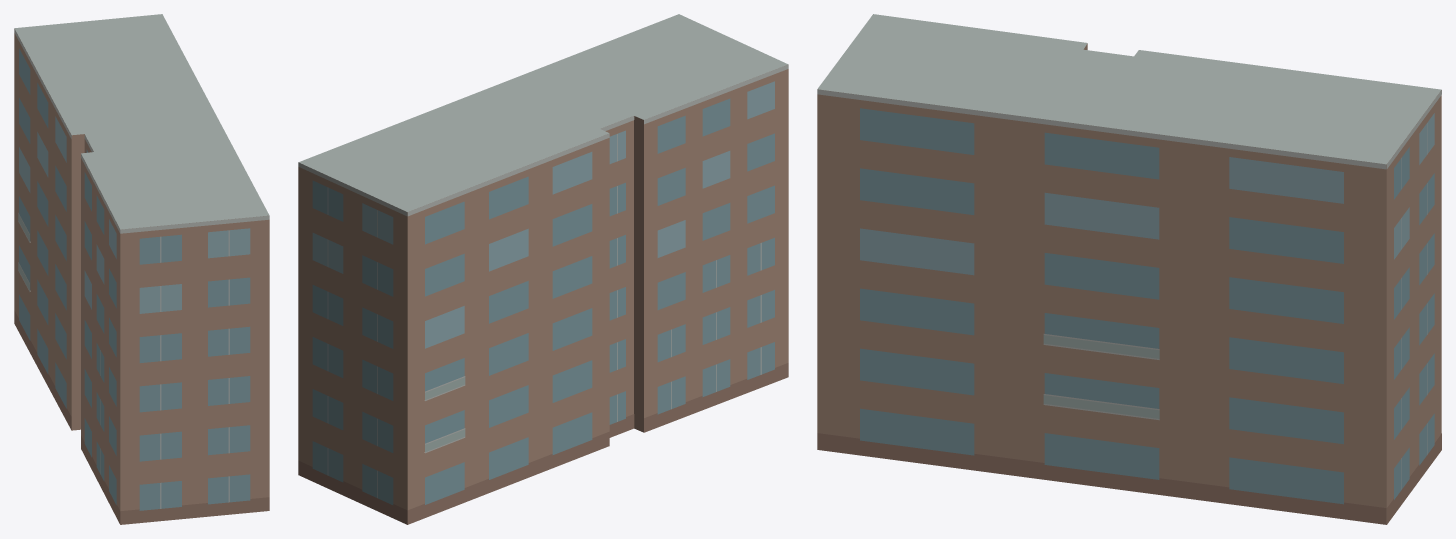
Rendered from survey-upis-32899186.glb.
3 renders of one model, left to right at view 1: azimuth 30°, elevation 25°; view 2: azimuth 150°, elevation 25°; view 3: azimuth 270°, elevation 25°, orthographic. The views are drawn at different scales.
Visible parts, largest first — view 1: survey-upis-32899186.tmp; view 2: survey-upis-32899186.tmp; view 3: survey-upis-32899186.tmp.
Boxes of the visible parts, bbox=[...] form: survey-upis-32899186.tmp: bbox=[14, 14, 269, 524]; survey-upis-32899186.tmp: bbox=[298, 14, 788, 524]; survey-upis-32899186.tmp: bbox=[817, 14, 1441, 524].
Size of the model in its own units: 15.53 by 17.35 by 27.25.
